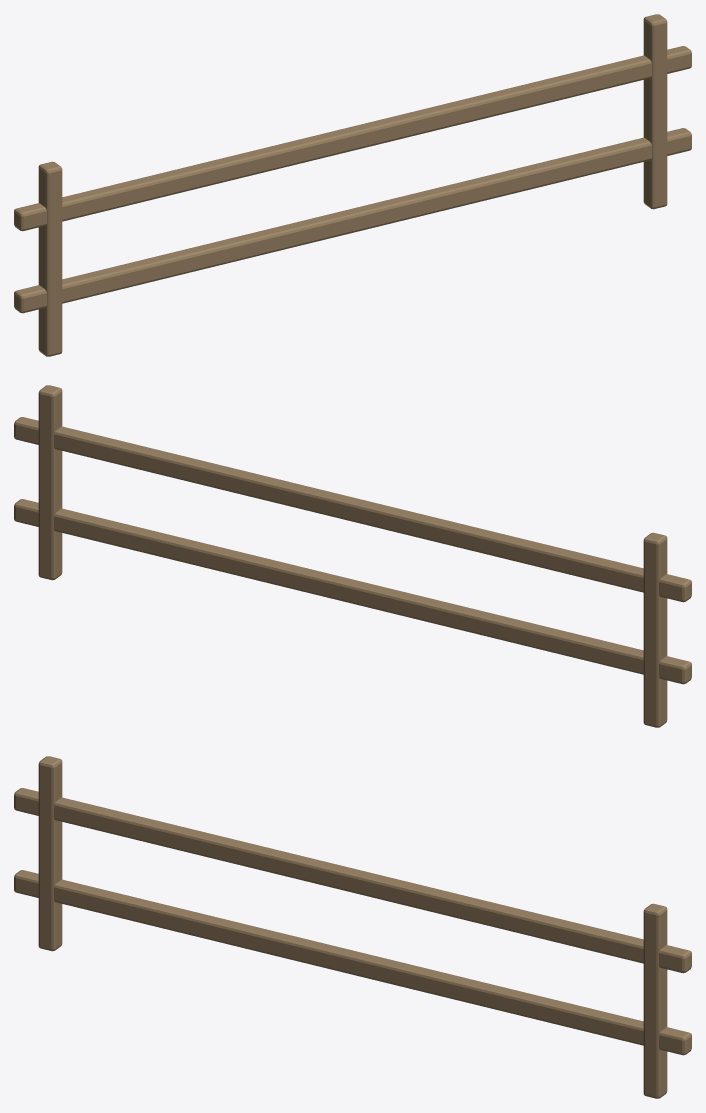
The model's file is fence.glb.
3 renders of one model, top to bottom at view 1: azimuth 30°, elevation 25°; view 2: azimuth 150°, elevation 25°; view 3: azimuth 330°, elevation 25°, orthographic.
Visible parts, largest first — view 1: fence post; view 2: fence post; view 3: fence post.
Part boxes in pixels (x1=…): fence post: x1=14, y1=14, x2=691, y2=356; fence post: x1=14, y1=385, x2=691, y2=727; fence post: x1=14, y1=756, x2=691, y2=1098.
Size of the model in its own units: 6 by 1.6 by 0.15.
